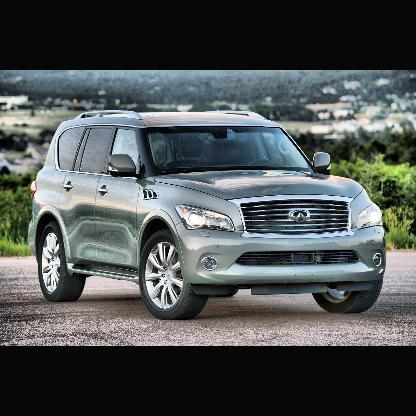Infiniti QX56 SUV 2011: (27, 107, 391, 321)
